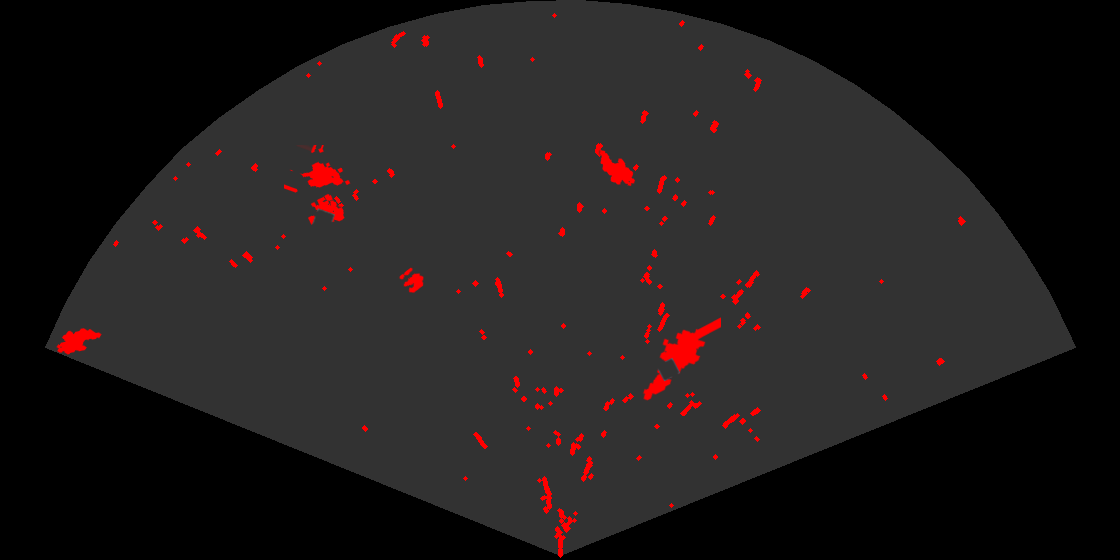AUV: (598, 149, 637, 188), (55, 327, 103, 356)
ball: (398, 266, 425, 295)
cage: (284, 145, 352, 226)
frogman: (641, 316, 721, 402)
